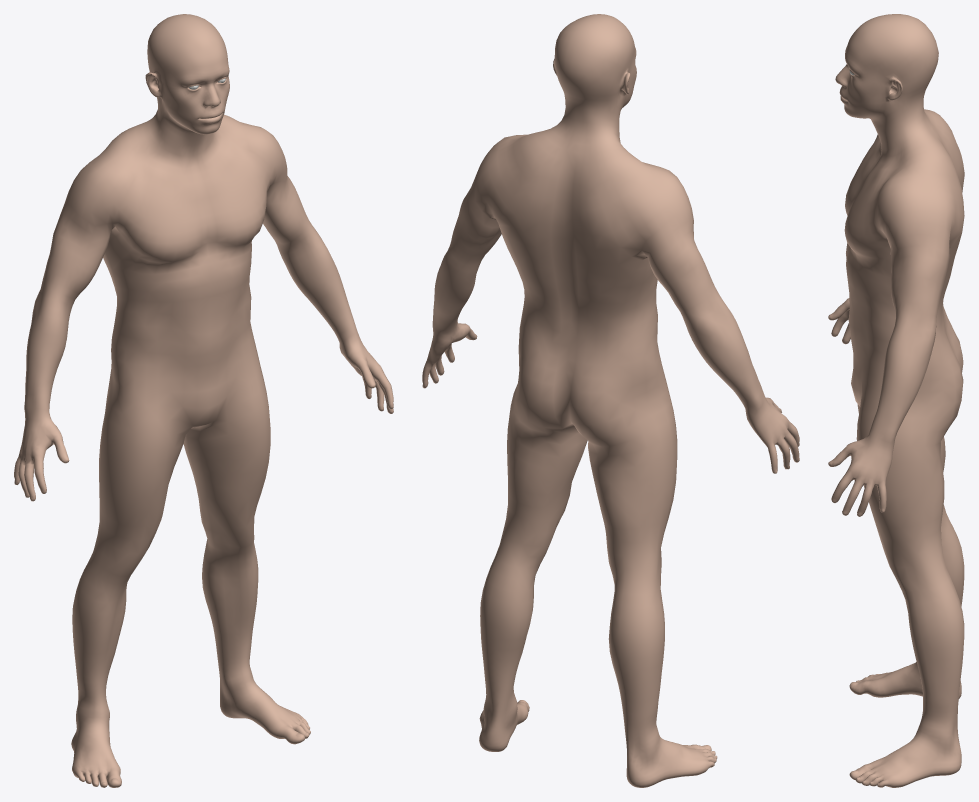
Rendered from realistic-body-male.glb.
3 views of the same model, side by side, from view 1: azimuth 30°, elevation 25°; view 2: azimuth 150°, elevation 25°; view 3: azimuth 270°, elevation 25° (orthographic).
Parts seen in each view (by area): view 1: CC0_SOURCE_GEO-body_male_realistic; view 2: CC0_SOURCE_GEO-body_male_realistic; view 3: CC0_SOURCE_GEO-body_male_realistic.
Part boxes in pixels (<box>): CC0_SOURCE_GEO-body_male_realistic: <box>14,14,393,787</box>; CC0_SOURCE_GEO-body_male_realistic: <box>422,14,799,787</box>; CC0_SOURCE_GEO-body_male_realistic: <box>828,14,964,787</box>.
Size of the model in its own units: 0.8807 by 1.69 by 0.2904.
